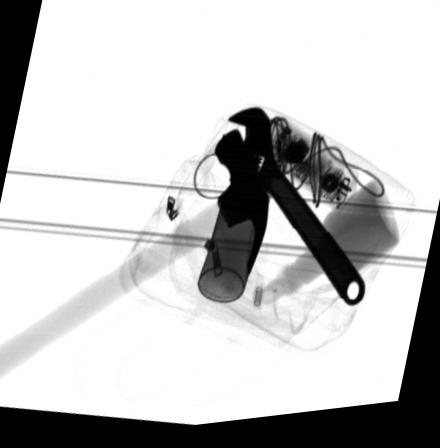Hammer: (0, 136, 269, 380)
Wrench: (224, 112, 366, 314)
